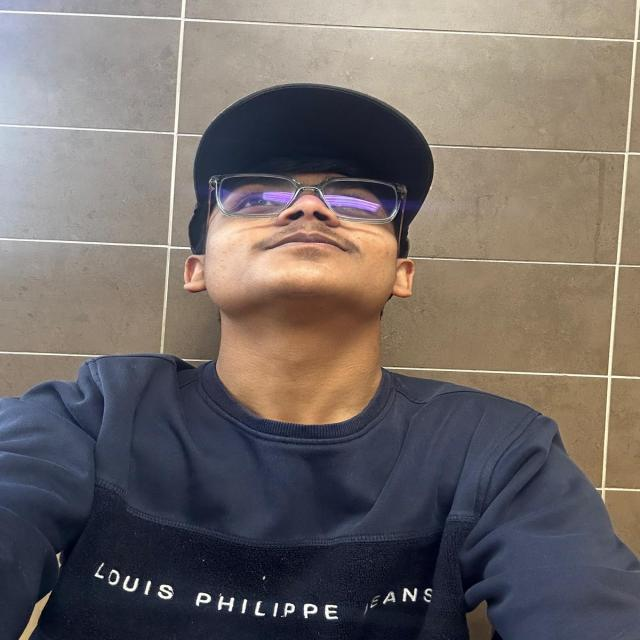cap: (156, 75, 454, 246)
